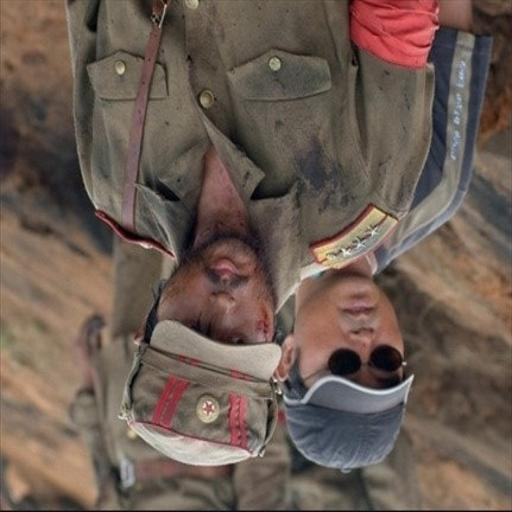north army: (51, 1, 372, 453)
